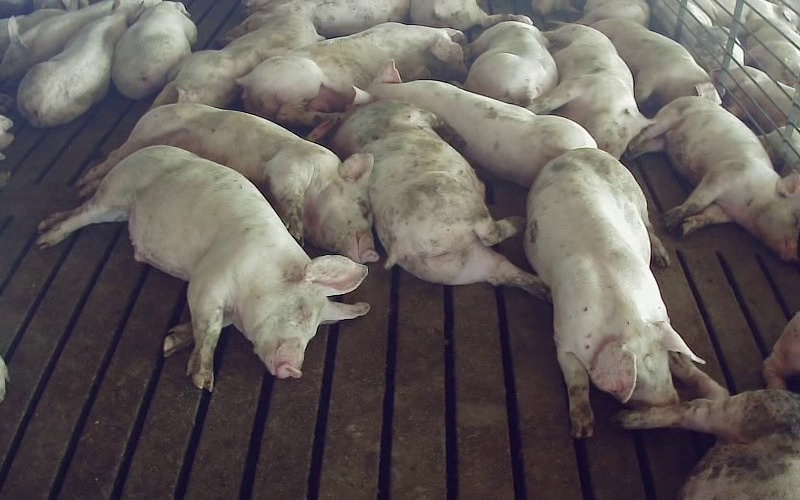pig: (37, 146, 368, 388), (524, 148, 697, 437), (309, 101, 547, 298), (628, 96, 799, 261), (615, 354, 799, 499), (239, 22, 466, 125), (528, 24, 647, 158), (153, 13, 321, 107), (17, 7, 127, 127), (591, 18, 720, 115), (464, 15, 557, 105), (112, 2, 196, 98)
